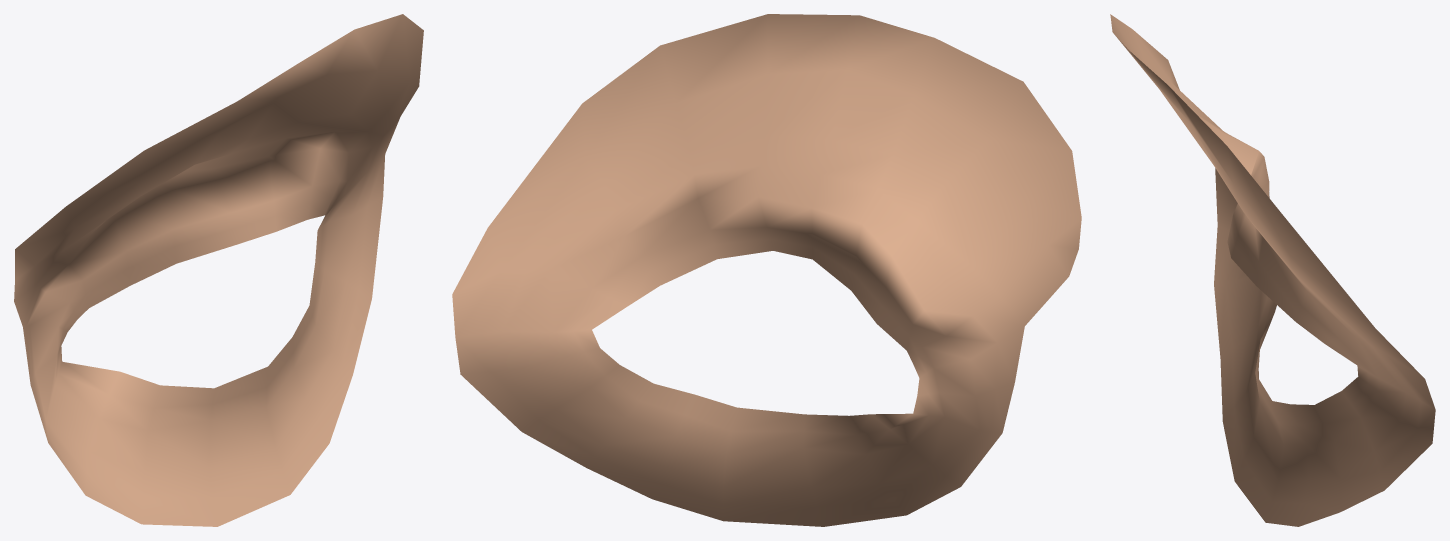
Rendered from orbital-region-l.glb.
3 renders of one model, left to right at view 1: azimuth 30°, elevation 25°; view 2: azimuth 150°, elevation 25°; view 3: azimuth 270°, elevation 25°, orthographic. The views are drawn at different scales.
Visible parts, largest first — view 1: Orbital region.l; view 2: Orbital region.l; view 3: Orbital region.l.
Boxes of the visible parts, <box> form: Orbital region.l: <box>14,14,423,526</box>; Orbital region.l: <box>452,14,1081,526</box>; Orbital region.l: <box>1110,14,1435,526</box>.
Size of the model in its own units: 0.048 by 0.0436 by 0.0291.
